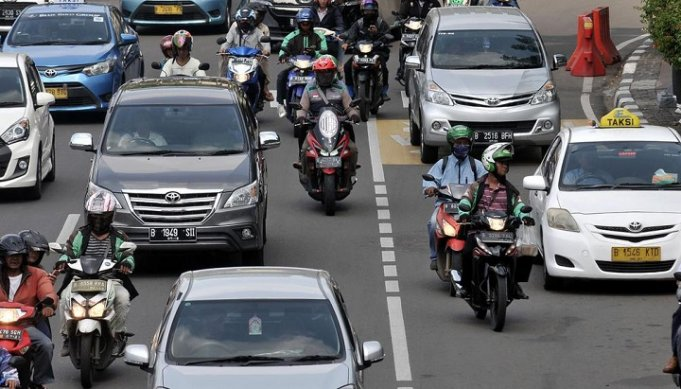plate: (613, 248, 662, 262), (469, 131, 512, 146), (148, 228, 195, 241), (72, 280, 108, 293), (478, 232, 514, 244), (315, 156, 341, 168), (443, 202, 464, 216), (42, 88, 66, 100), (153, 5, 181, 14), (289, 75, 310, 86), (1, 330, 21, 340), (354, 57, 376, 64), (401, 33, 418, 42), (231, 58, 251, 64)
